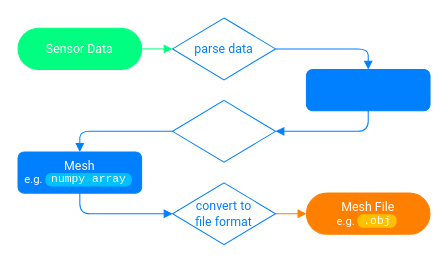
The diagram is 448 pixels wide and 263 high, and some of its shapes have lost their labels. Each missing label, with the centre of its shape:
"create mesh" goes at point (223, 130).
"Intermediate Format e.g. numpy array" goes at point (367, 89).
